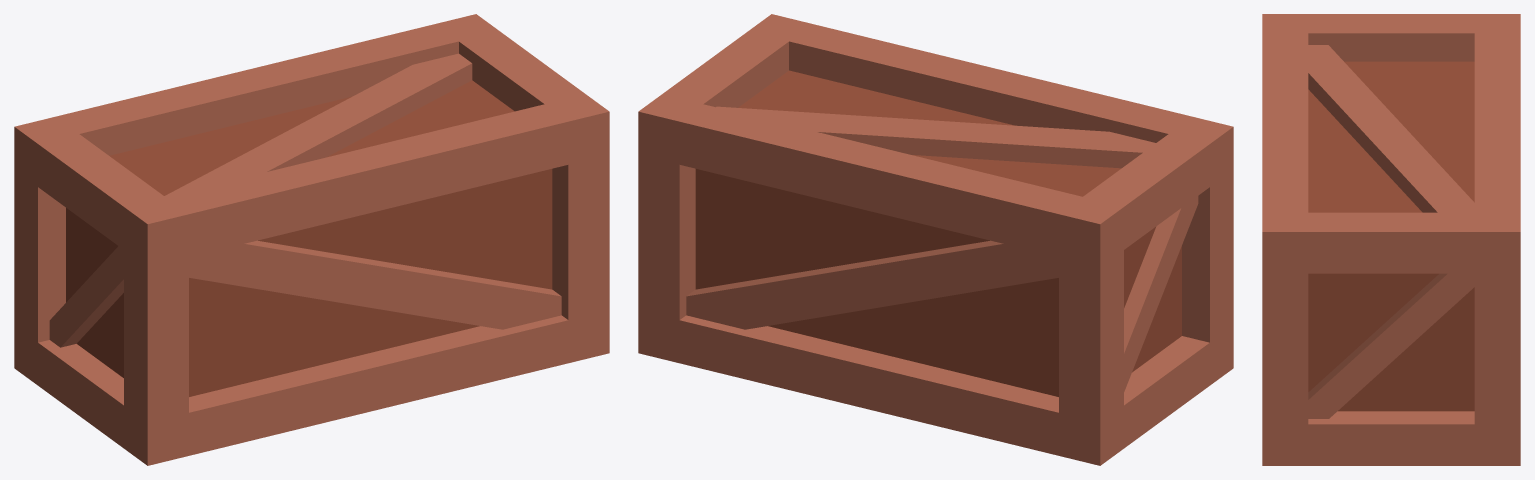
The model's file is caisse2.fbx.
3 renders of one model, left to right at view 1: azimuth 30°, elevation 25°; view 2: azimuth 150°, elevation 25°; view 3: azimuth 270°, elevation 25°, orthographic. The views are drawn at different scales.
Parts seen in each view (by area): view 1: mergedBlocks; view 2: mergedBlocks; view 3: mergedBlocks.
Part boxes in pixels (left/top/right/bottom): mergedBlocks: left=14, top=14, right=609, bottom=465; mergedBlocks: left=638, top=14, right=1233, bottom=465; mergedBlocks: left=1262, top=14, right=1520, bottom=465.
Size of the model in its own units: 6 by 3 by 3.
